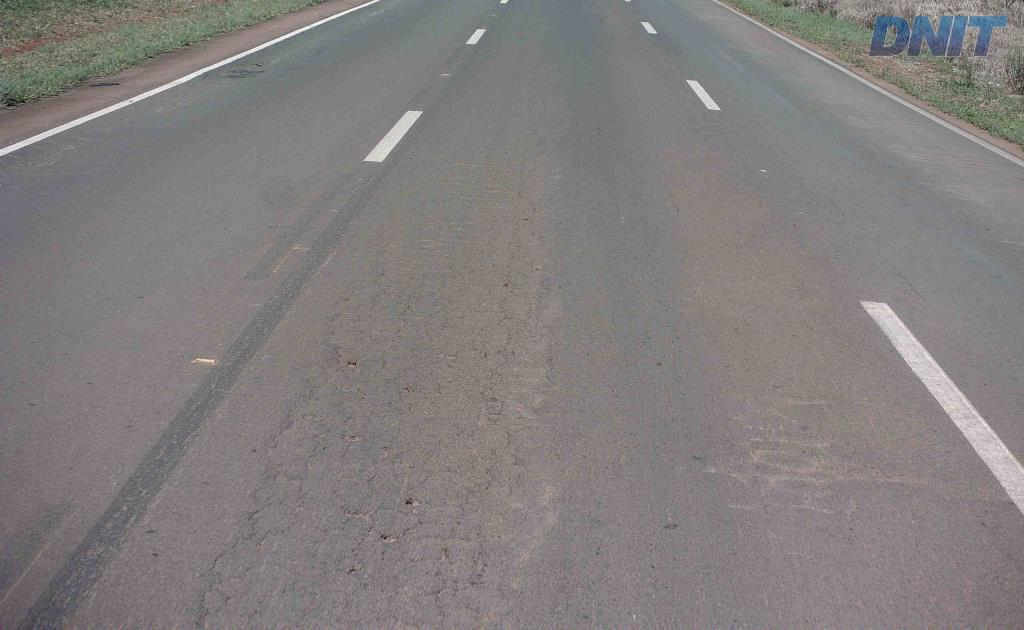crack: (185, 580, 215, 629)
